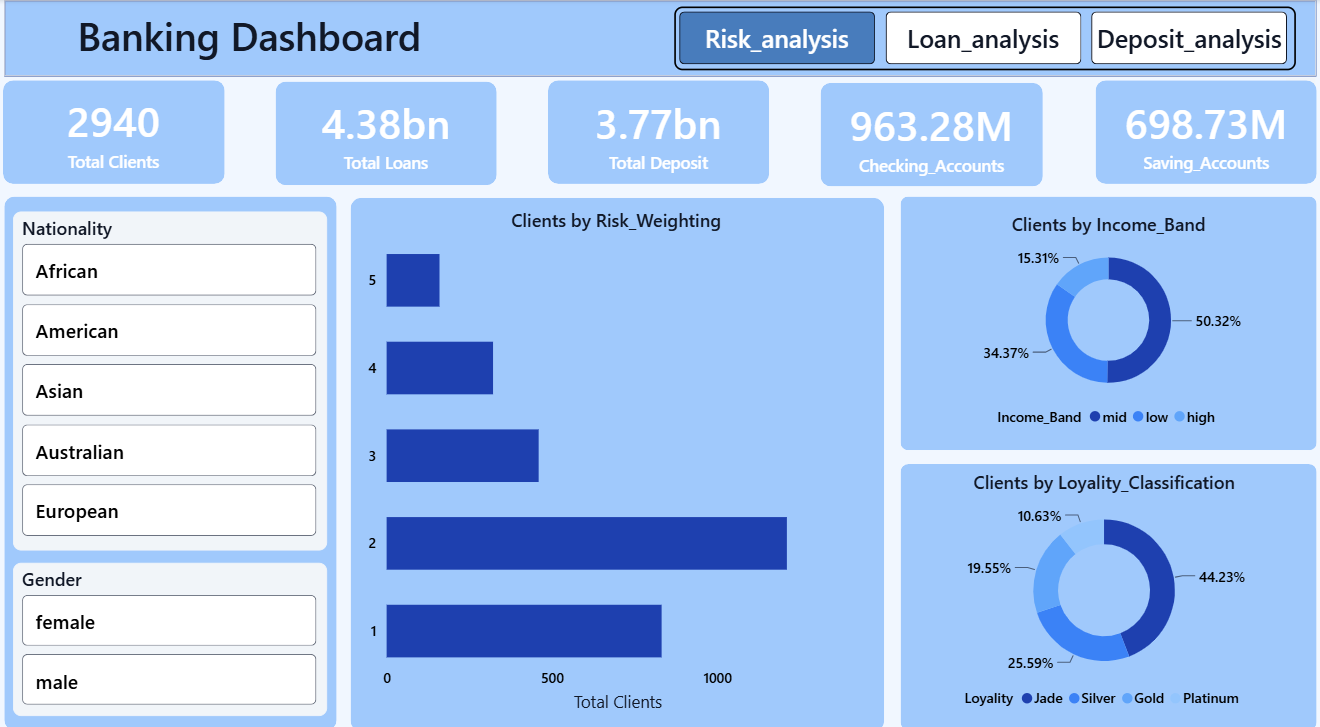

What the dashboard file says about the page in this screenshot:
{"tool":"powerbi","page":{"name":"Risk_analysis","canvas":[1280,720],"ordinal":0},"visuals":[{"type":"shape","box":[6,1.2,1266.8,73.6],"z":0},{"type":"shape","box":[530.8,79,213.5,100.1],"z":1000},{"type":"shape","box":[1059.4,79,213.5,100.1],"z":2000},{"type":"shape","box":[267.8,79.6,213.5,100.1],"z":3000},{"type":"shape","box":[5,78,214,100.1],"z":4000},{"type":"shape","box":[793.8,81.4,214.7,100.1],"z":5000},{"type":"card","fields":{"Values":["Banking_new.Total Clients"]},"box":[25.7,79.2,172.5,97.7],"z":6000},{"type":"card","fields":{"Values":["Banking_new.Total Loans"]},"box":[288.4,80.8,172.5,97.7],"z":7000},{"type":"card","fields":{"Values":["Banking_new.Total Deposit"]},"box":[551.4,80.2,172.5,97.7],"z":8000},{"type":"card","fields":{"Values":["Sum(Banking_new.checking_accounts)"]},"box":[814.4,82.6,173.7,97.7],"z":9000},{"type":"card","fields":{"Values":["Sum(Banking_new.saving_accounts)"]},"box":[1079.6,80.2,173,97.7],"z":10000},{"type":"textbox","box":[12.1,7.2,460.9,61.5],"z":11000},{"type":"pageNavigator","box":[652.7,7.2,599.6,61.5],"z":12000},{"type":"shape","box":[871.1,448.8,401.7,257],"z":13000},{"type":"shape","box":[340.2,191.8,515.2,515.2],"z":14000},{"type":"shape","box":[871.1,190.6,401.7,244.9],"z":15000},{"type":"shape","box":[6,190.6,320.9,515.2],"z":16000},{"type":"advancedSlicerVisual","title":"Nationality","fields":{"Values":["Banking_new.nationality"]},"box":[14.5,205.1,302.8,326.9],"z":17000},{"type":"advancedSlicerVisual","title":"Gender","fields":{"Values":["Banking_new.genderid"]},"box":[14.5,544.1,302.8,148.4],"z":18000},{"type":"donutChart","title":"Clients by Income_Band","fields":{"Y":["Banking_new.Total Clients"],"Category":["Banking_new.income_band"]},"box":[883.1,205.1,377.6,217],"z":19000},{"type":"clusteredBarChart","title":"Clients by Risk_Weighting","fields":{"Category":["Banking_new.risk_weighting"],"Y":["Banking_new.Total Clients"]},"box":[352.3,201.5,488.6,492.2],"z":20000},{"type":"donutChart","title":"Clients by Loyality_Classification","fields":{"Category":["Banking_new.loyalty_classification"],"Y":["Banking_new.Total Clients"]},"box":[883.1,454.8,369.2,238.9],"z":21000}]}

Visuals, with their boxes in screenshot pixels (x1, y1, x2, y2), scaled from the page's 1280x720 canvas onto the 1320x727 screenshot:
shape: crop(6, 1, 1313, 76)
shape: crop(547, 80, 768, 181)
shape: crop(1093, 80, 1313, 181)
shape: crop(276, 80, 496, 181)
shape: crop(5, 79, 226, 180)
shape: crop(819, 82, 1040, 183)
card - Banking_new.Total Clients: crop(27, 80, 204, 179)
card - Banking_new.Total Loans: crop(297, 82, 475, 180)
card - Banking_new.Total Deposit: crop(569, 81, 747, 180)
card - Sum(Banking_new.checking_accounts): crop(840, 83, 1019, 182)
card - Sum(Banking_new.saving_accounts): crop(1113, 81, 1292, 180)
textbox: crop(12, 7, 488, 69)
pageNavigator: crop(673, 7, 1291, 69)
shape: crop(898, 453, 1313, 713)
shape: crop(351, 194, 882, 714)
shape: crop(898, 192, 1313, 440)
shape: crop(6, 192, 337, 713)
"Nationality" advancedSlicerVisual: crop(15, 207, 327, 537)
"Gender" advancedSlicerVisual: crop(15, 549, 327, 699)
"Clients by Income_Band" donutChart: crop(911, 207, 1300, 426)
"Clients by Risk_Weighting" clusteredBarChart: crop(363, 203, 867, 700)
"Clients by Loyality_Classification" donutChart: crop(911, 459, 1291, 700)
